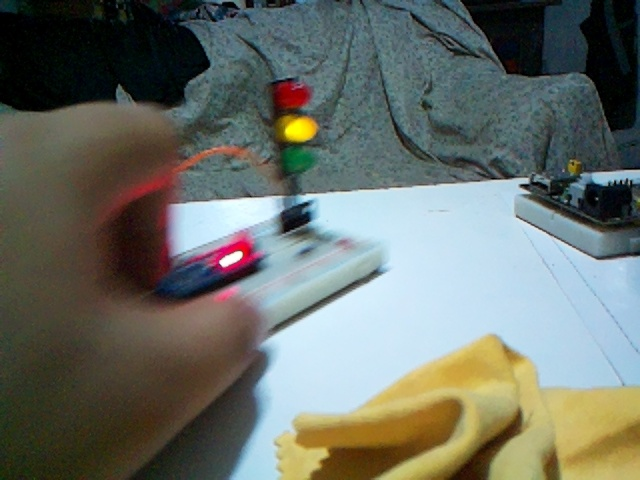traffic_light_yellow: (270, 78, 319, 181)
